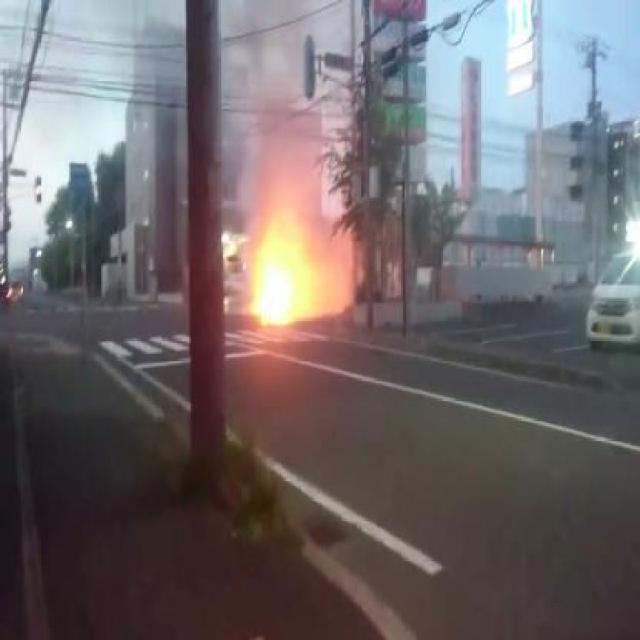Fire: (249, 221, 317, 327)
